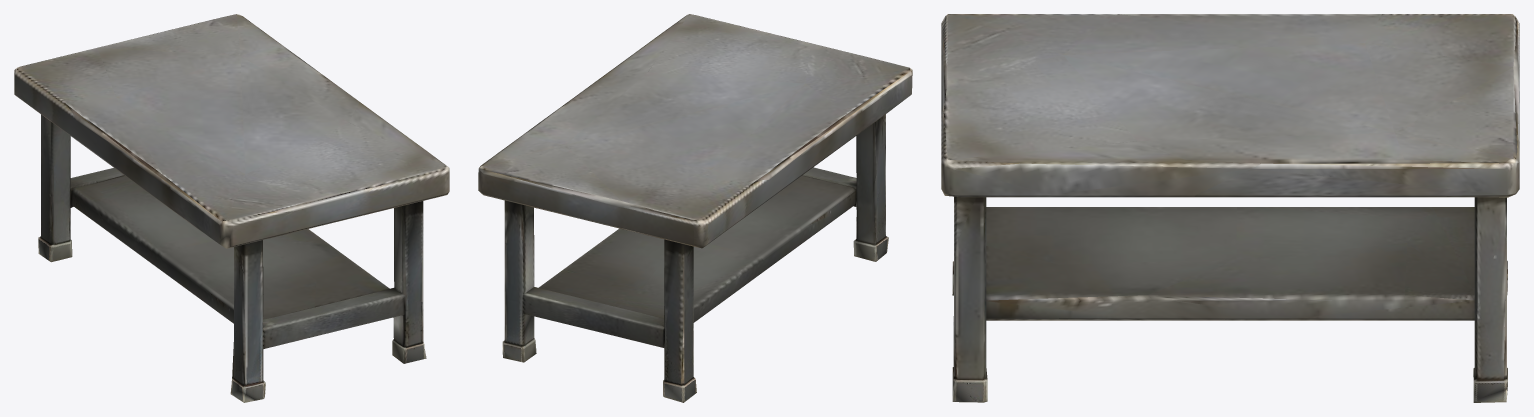
File: tripo_convert_0ef6cd88-680f-4301-b80d-608f7157ee05.fbx
The picture shows the model from 3 angles, left to right: view 1: azimuth 30°, elevation 25°; view 2: azimuth 150°, elevation 25°; view 3: azimuth 270°, elevation 25°; orthographic projection. The views are drawn at different scales.
Parts seen in each view (by area): view 1: tripo_node_0ef6cd88; view 2: tripo_node_0ef6cd88; view 3: tripo_node_0ef6cd88.
Part boxes in pixels (x1,y1,x2,y2): tripo_node_0ef6cd88: [14, 14, 449, 402]; tripo_node_0ef6cd88: [478, 14, 912, 402]; tripo_node_0ef6cd88: [941, 14, 1519, 402].
Bounding box in the file's own units: 0.6185 × 0.49 × 0.9999.
1 material, 1 textured.
